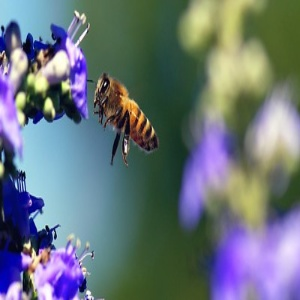bee: (86, 69, 161, 176)
